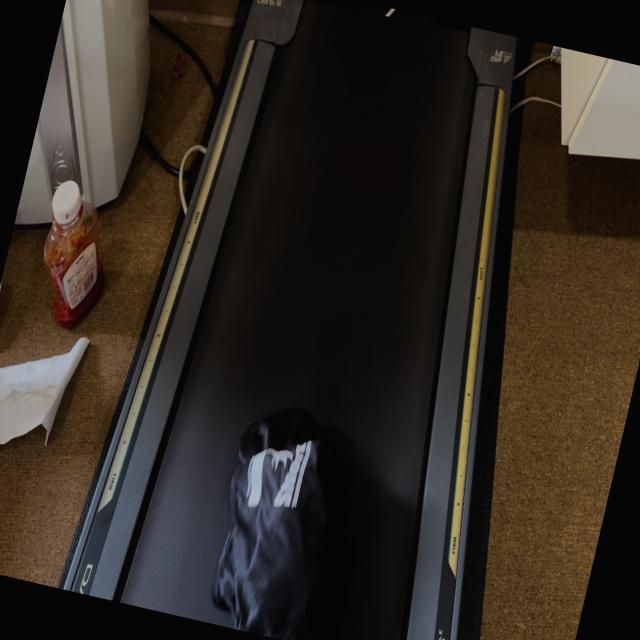Trash: (188, 396, 352, 639)
